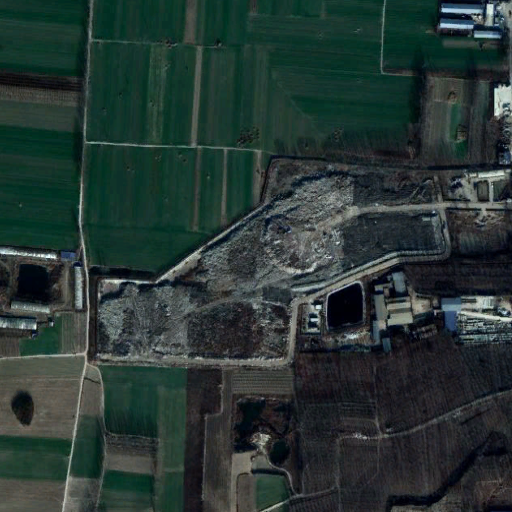lf: (93, 162, 445, 360)
